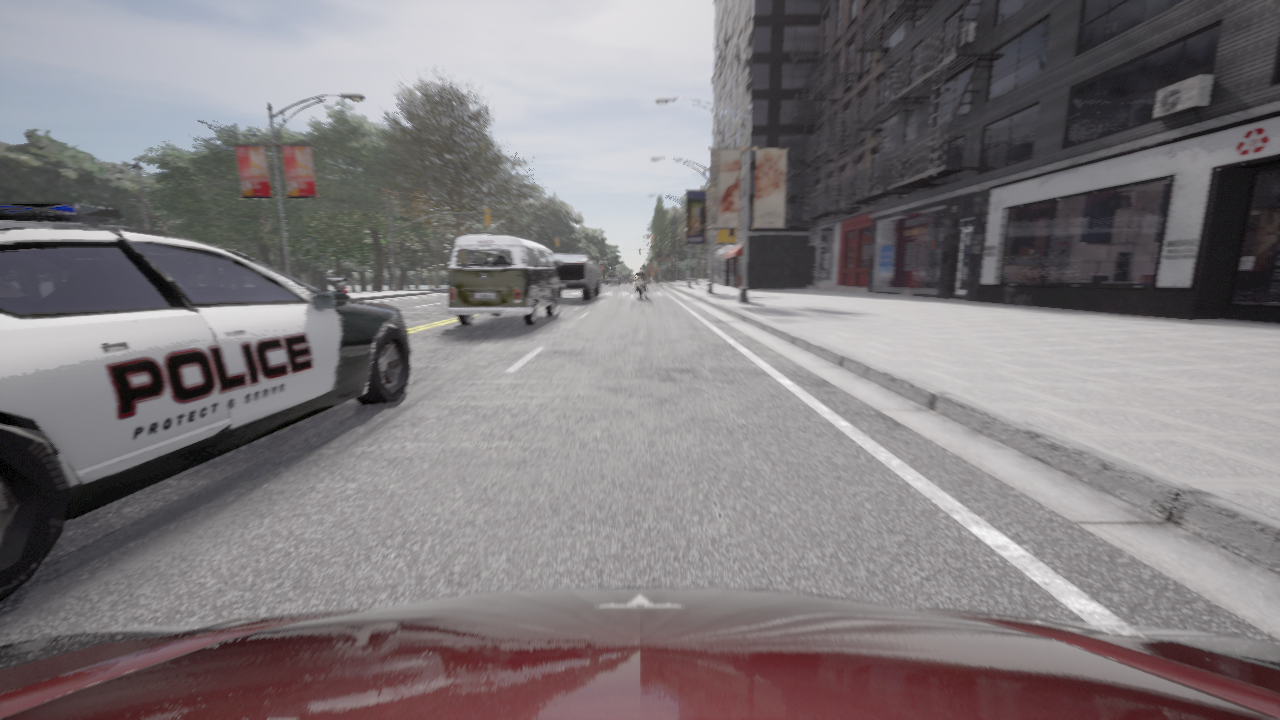cyclist: (0, 588, 1279, 719), (447, 235, 560, 326), (553, 254, 601, 301), (632, 275, 647, 299), (605, 272, 620, 285)
